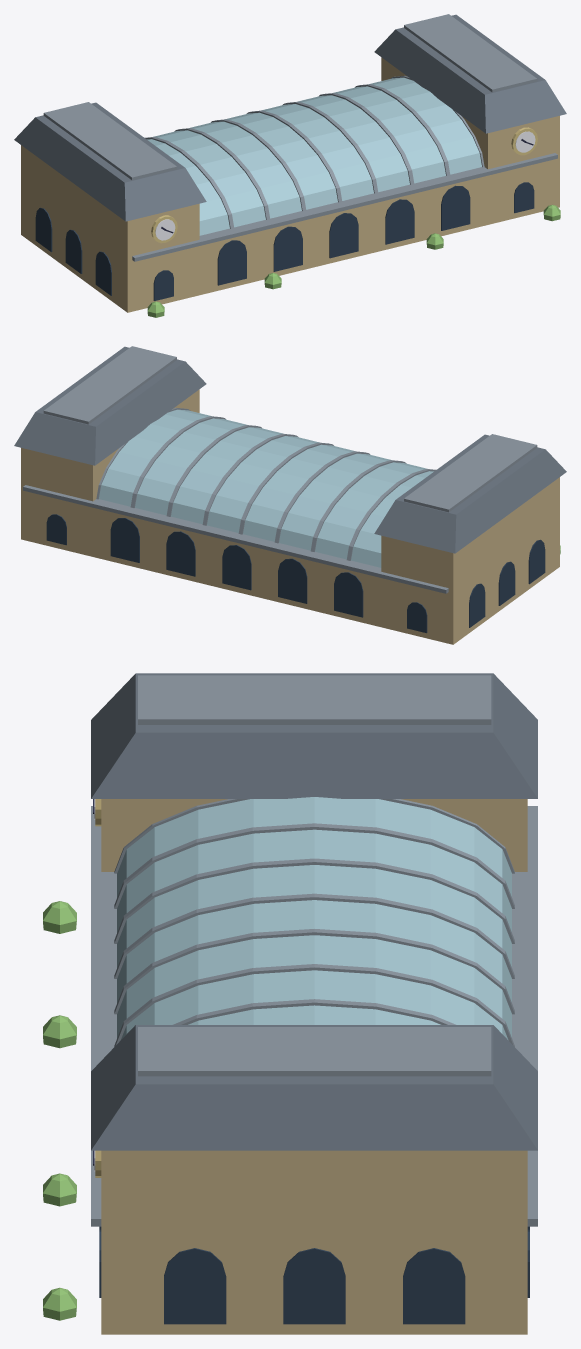
File: orsay-museum-5x3.glb
The picture shows the model from 3 angles, top to bottom: view 1: azimuth 30°, elevation 25°; view 2: azimuth 150°, elevation 25°; view 3: azimuth 270°, elevation 25°; orthographic projection. The views are drawn at different scales.
Visible parts, largest first — view 1: orsay-museum-5x3; view 2: orsay-museum-5x3; view 3: orsay-museum-5x3.
Boxes of the visible parts, box(x1,y1,x2,y2) form: orsay-museum-5x3: box(14, 14, 566, 317); orsay-museum-5x3: box(14, 346, 566, 644); orsay-museum-5x3: box(43, 673, 537, 1334).
Bounding box in the file's own units: 4.9 × 1.33 × 2.38.
Materials: 1 (1 with a texture image).
